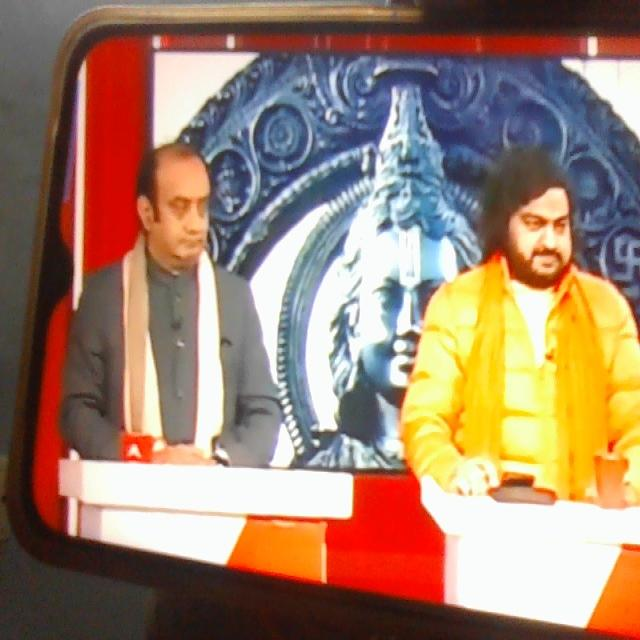fake: (485, 96, 595, 304)
